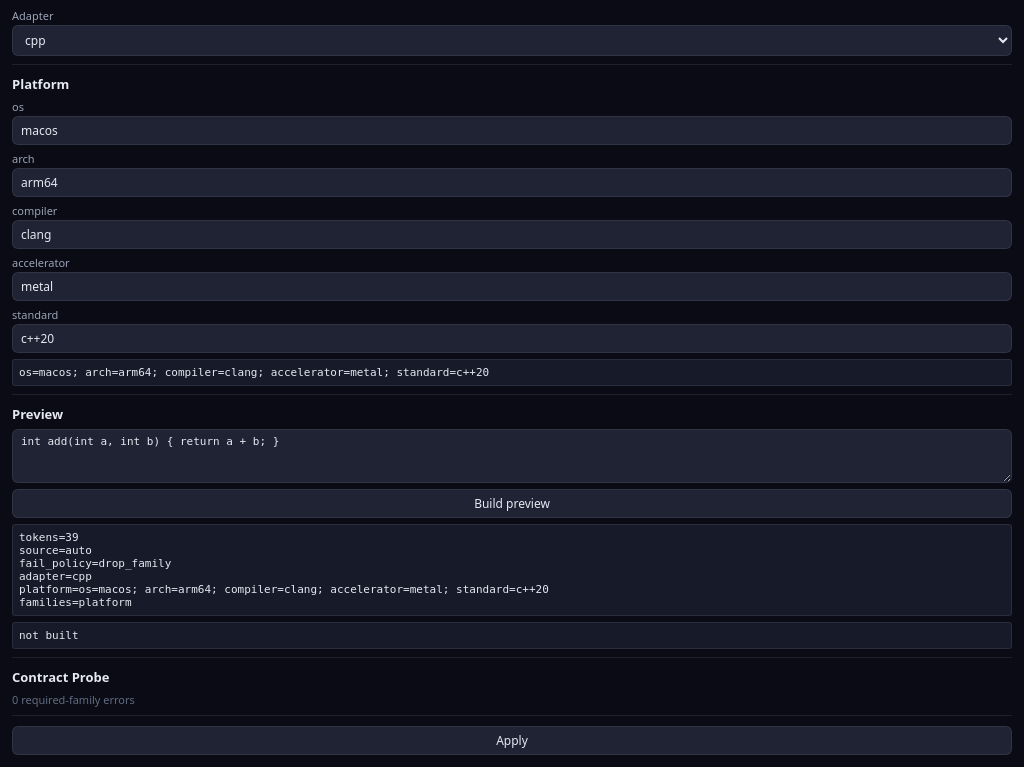
Test: V7-H11 SideChannelsTab Apply RPC › renders error severity gotcha from backend with red colour
(page scrolled)
Click the button with test id "side-channels-apply": (512, 740) x1=12 y1=726 x2=1012 y2=755
(page scrolled)
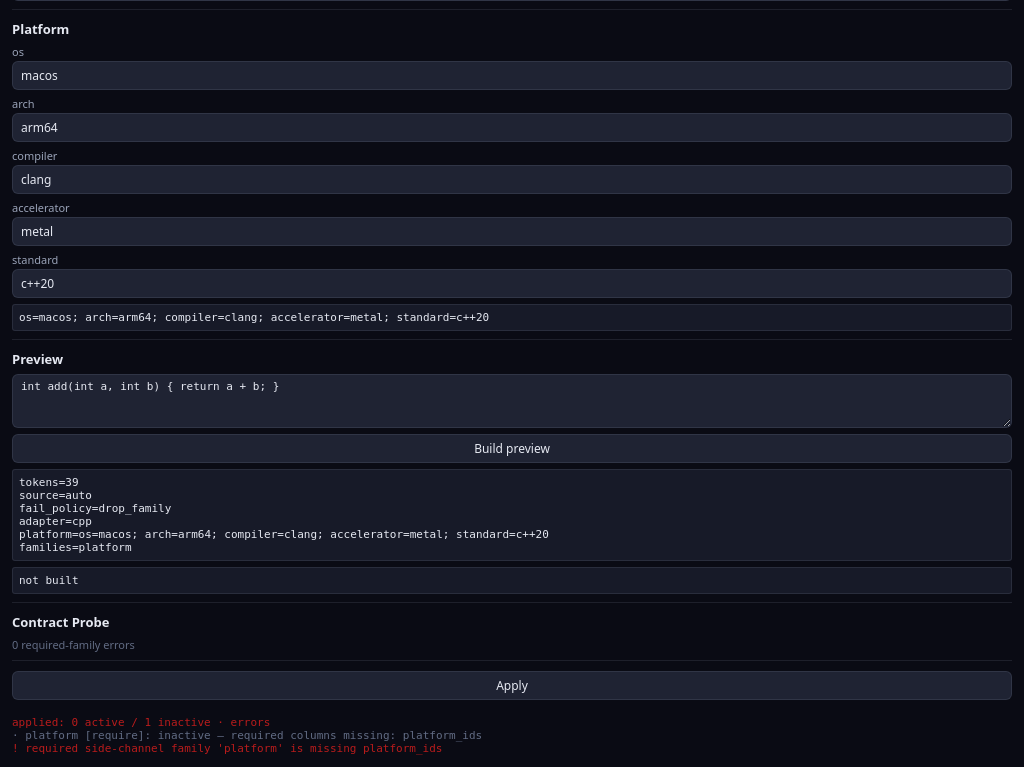
Result: the text with test id "side-channels-apply-gotcha-side_channel_required_platform" shows "required side-channel family" at x1=25 y1=742 x2=442 y2=755
Result: the text with test id "side-channels-apply-summary" shows "errors" at x1=211 y1=716 x2=270 y2=729
